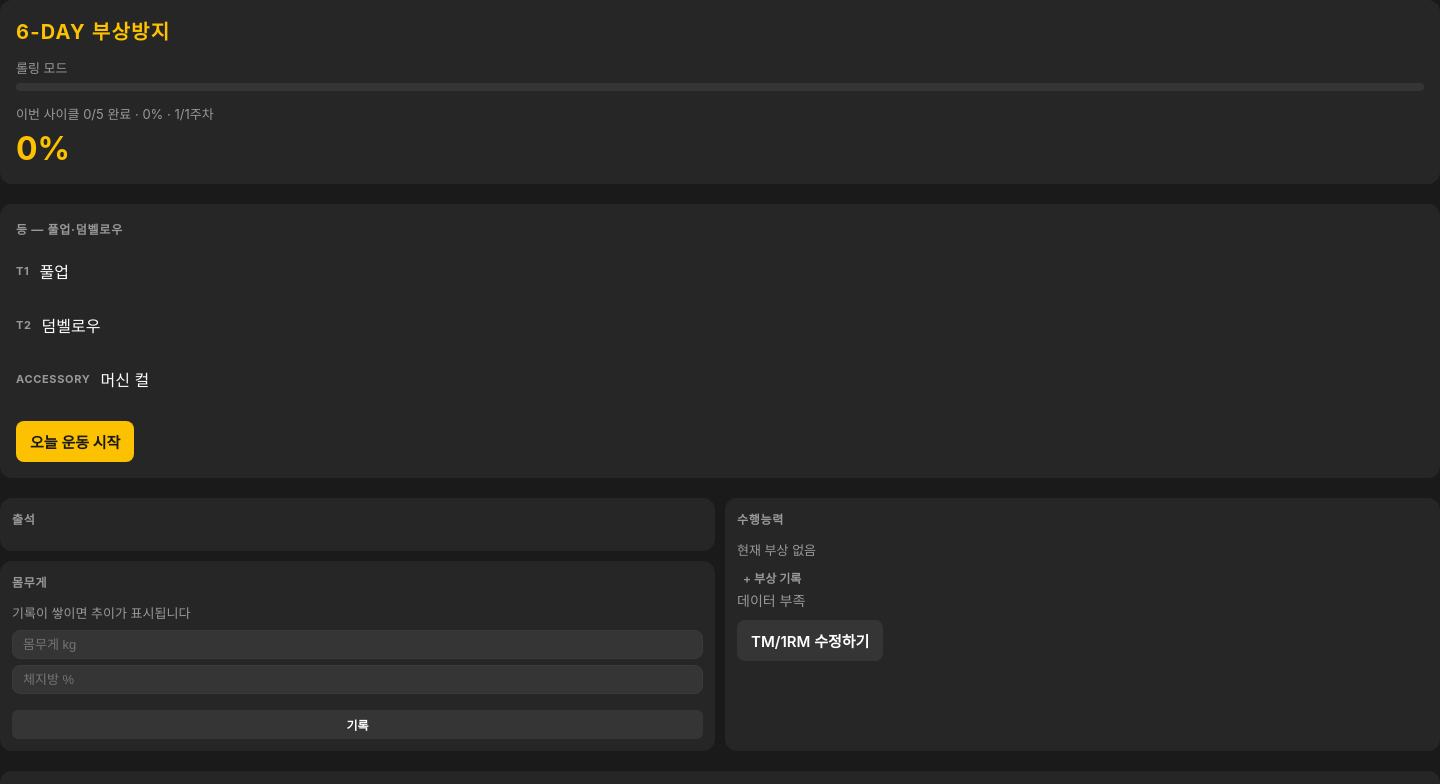
Scenario: HomeScreen › 항목3 — TM 패널 재구성(kk-6day) › TM 없는 종목(pullup) 행은 읽기전용(입력/저장 버튼 없음), TM 있는 종목(ohp)은 편집 UI 포함
What coordinates should you click on to do the following:
click the button with test id "tm-edit-toggle"
I would click on:
 (810, 640)
Its box is [737, 620, 883, 661].
(page scrolled)
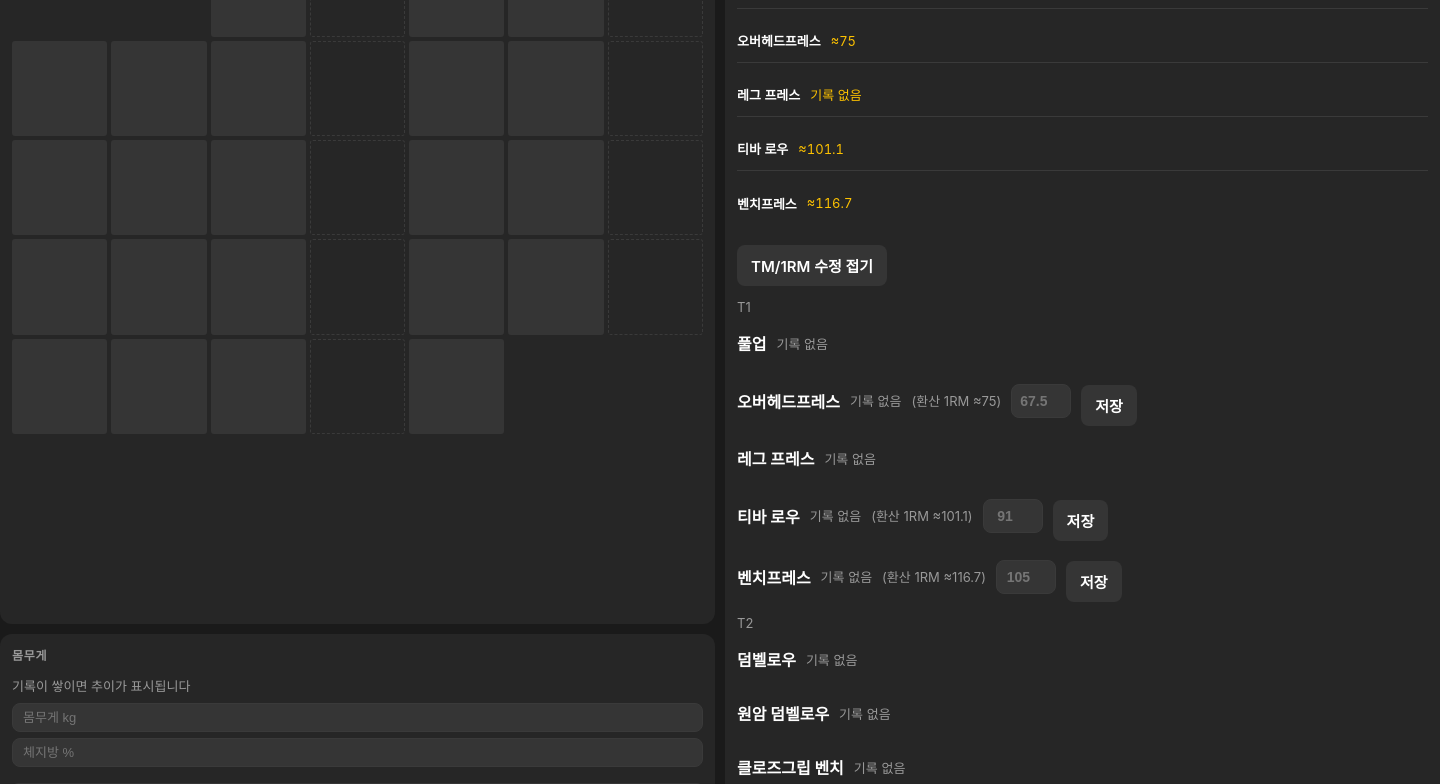
Check: the 2nd text "기록 없음" is shown, box [776, 334, 828, 352]
Check: the number field with test id "tm-input-ohp" is shown, box [1011, 384, 1071, 418]
Check: the 1st button "저장" is shown, box [1081, 385, 1137, 426]
